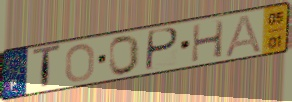A: (223, 13, 264, 59)
H: (190, 18, 226, 64)
O: (108, 34, 142, 77), (64, 42, 97, 83)
P: (143, 27, 181, 73)
T: (31, 43, 63, 92)
